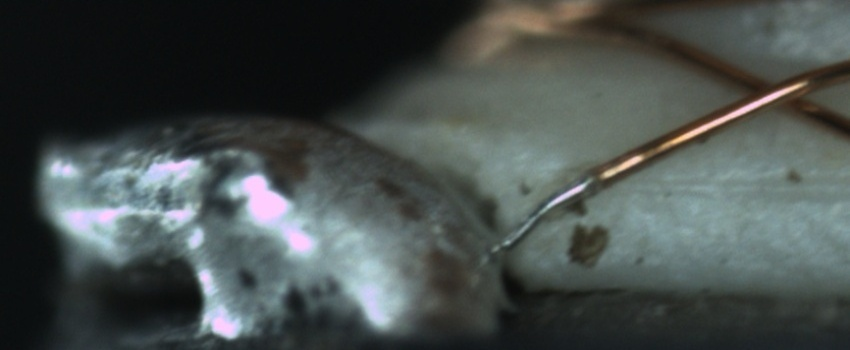CL: (712, 58, 835, 122)
DL: (614, 150, 844, 220)
TS: (494, 171, 599, 253)
TTCW: (494, 155, 623, 257)
